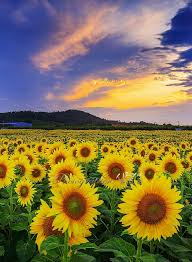flower: (3, 131, 188, 262)
mountain: (4, 110, 112, 129)
sky: (1, 3, 191, 108)
